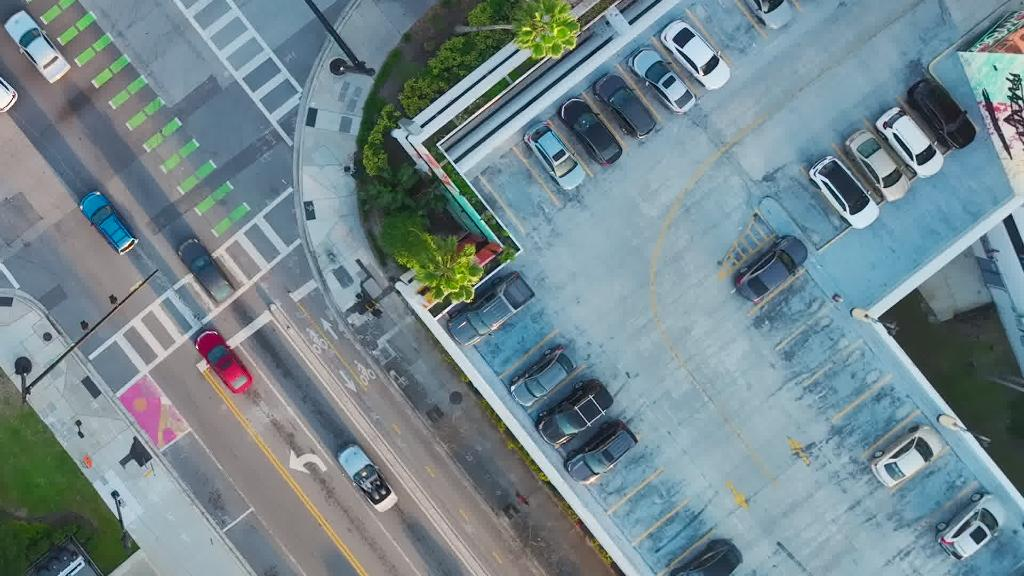cars: (446, 270, 538, 346), (535, 377, 613, 447), (808, 156, 880, 228), (734, 234, 810, 302), (935, 491, 1009, 560), (907, 78, 977, 150), (660, 18, 730, 90), (563, 418, 639, 484), (844, 130, 912, 202), (876, 106, 944, 178), (868, 424, 944, 488), (4, 11, 70, 84), (628, 47, 698, 115), (592, 71, 658, 139), (558, 96, 622, 166), (336, 443, 398, 513), (508, 344, 578, 406), (524, 121, 586, 189), (78, 190, 138, 256), (176, 238, 234, 304), (195, 330, 253, 394), (670, 538, 744, 576), (728, 0, 794, 28), (0, 51, 18, 112)
